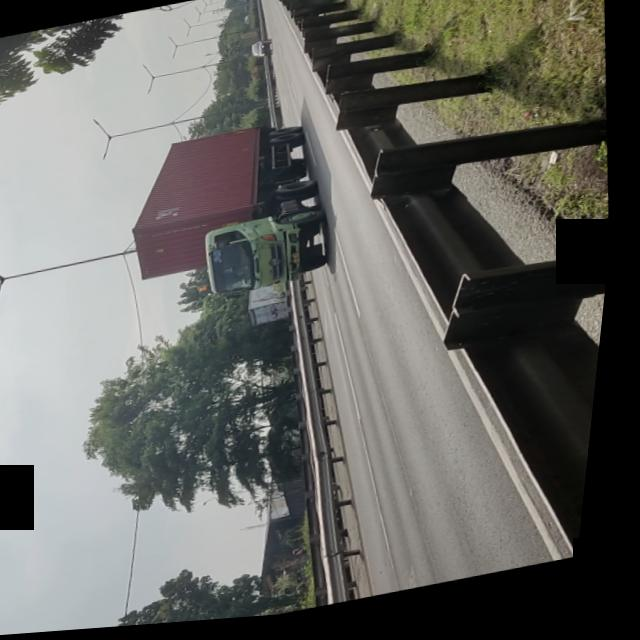Golongan IV: (127, 113, 351, 319)
